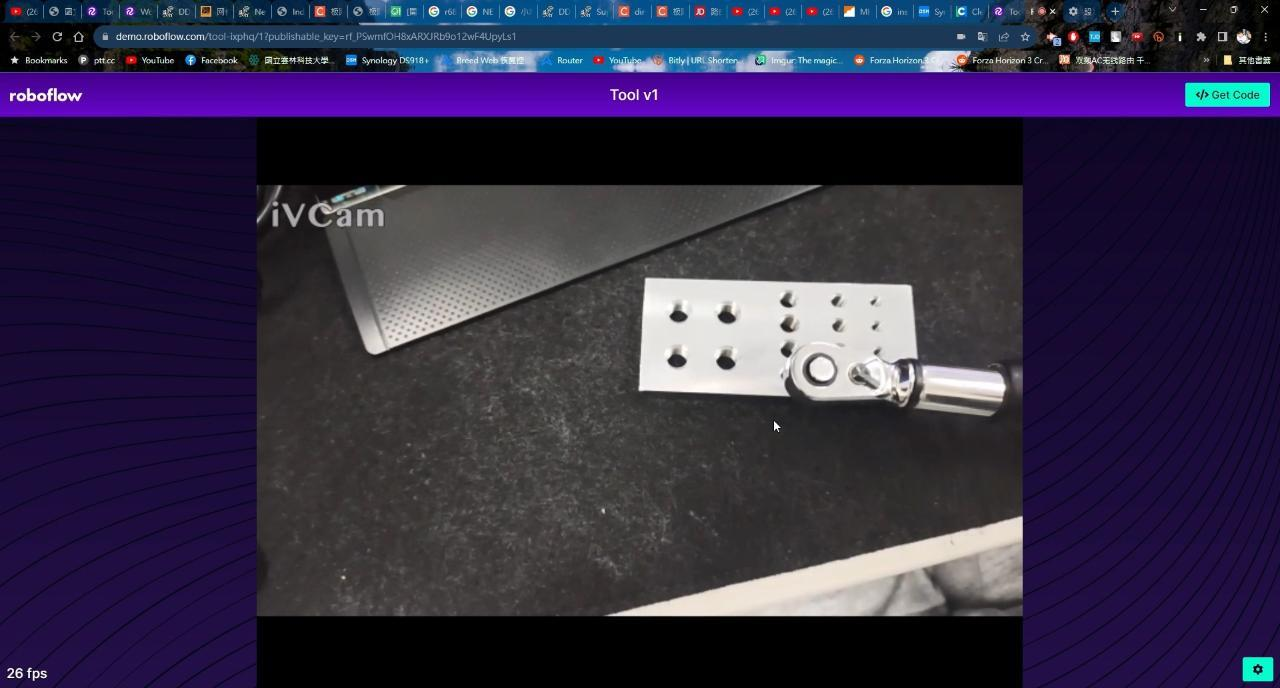Tool: (784, 343, 904, 409)
